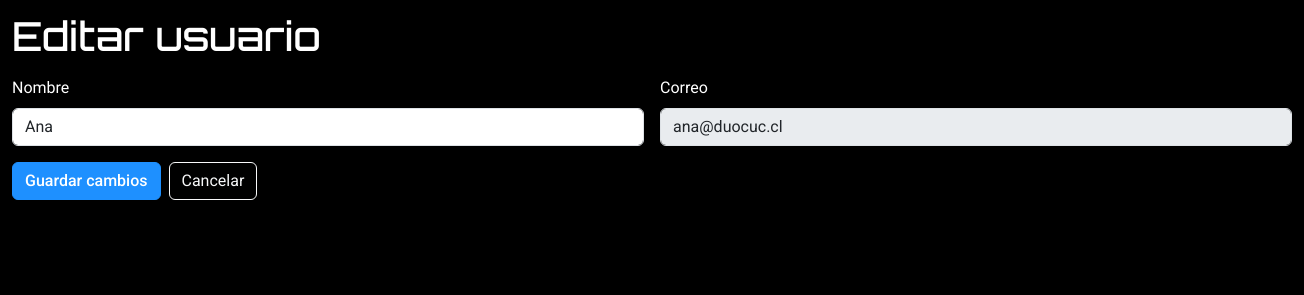
Test case: AdminUsuarioFormView - editar usuario › muestra el error si no se pudo editar
This screenshot has width=1304, height=295.
Click the button "Guardar cambios".
click(86, 181)  # box [12, 162, 160, 200]
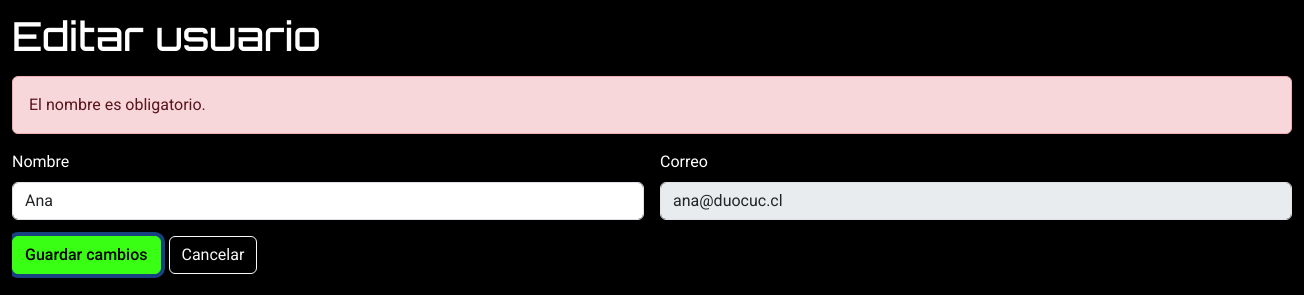
Check: the message reads "El nombre es obligatorio.", box [29, 95, 206, 114]
